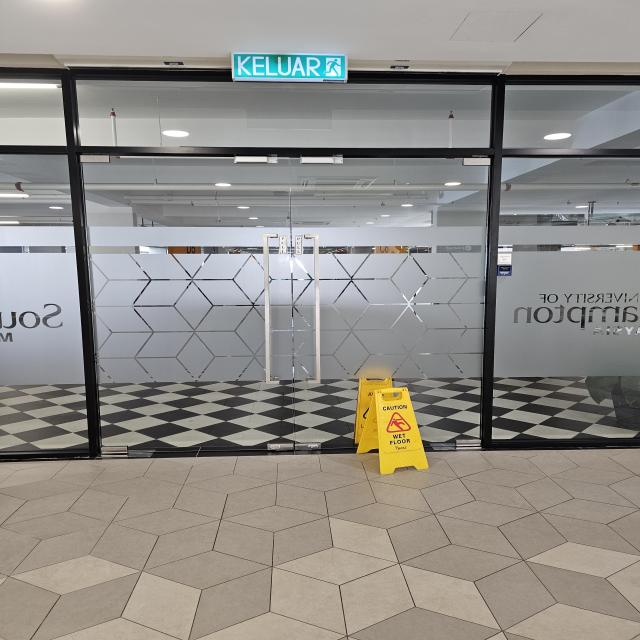door: (75, 150, 502, 458)
footpath: (1, 476, 640, 639)
obstacle: (354, 377, 430, 475)
